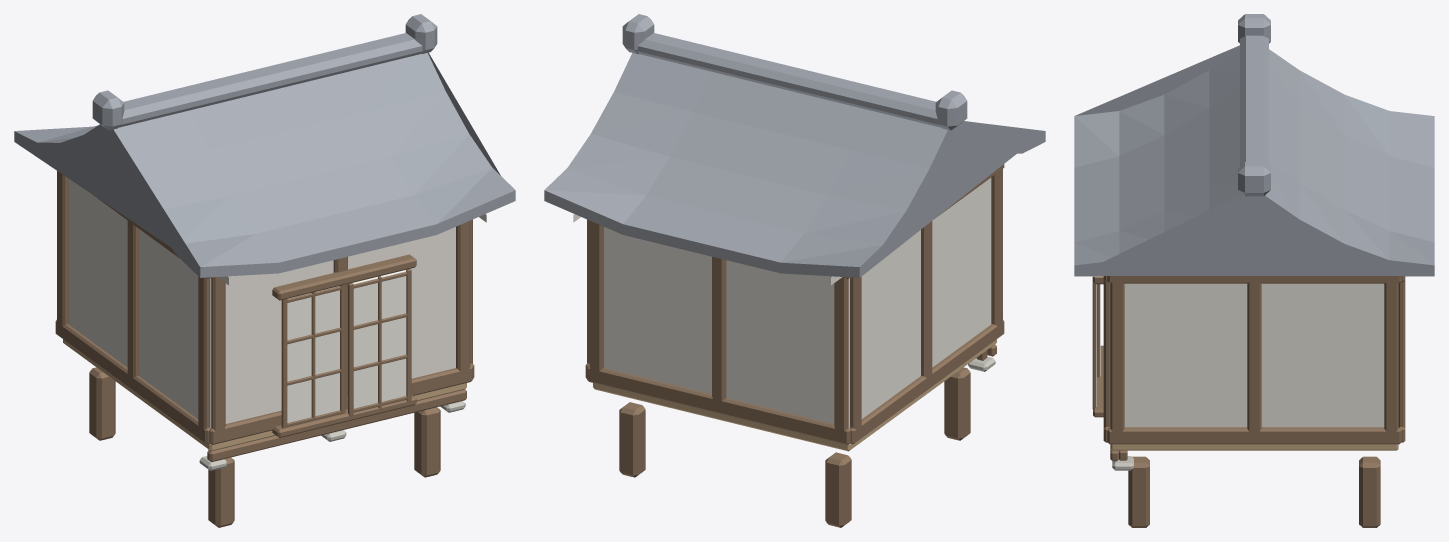
The model's file is granary-raised.glb.
3 views of the same model, side by side, from view 1: azimuth 30°, elevation 25°; view 2: azimuth 150°, elevation 25°; view 3: azimuth 270°, elevation 25° (orthographic). The views are drawn at different scales.
Visible parts, largest first — view 1: granary-raised; view 2: granary-raised; view 3: granary-raised.
Boxes of the visible parts, x1=… form: granary-raised: x1=14, y1=14, x2=515, y2=527; granary-raised: x1=544, y1=14, x2=1045, y2=527; granary-raised: x1=1074, y1=14, x2=1434, y2=527.
Bounding box in the file's own units: 5.2 × 5.91 × 5.
